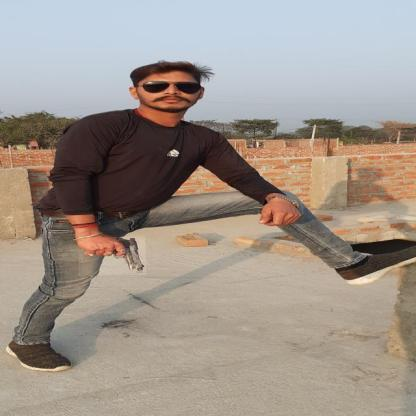handgun: (78, 236, 146, 277)
